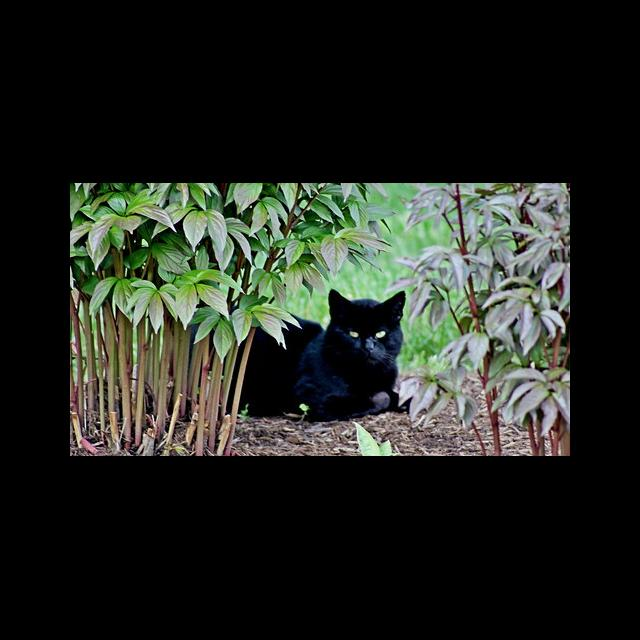animals: (227, 290, 412, 422)
